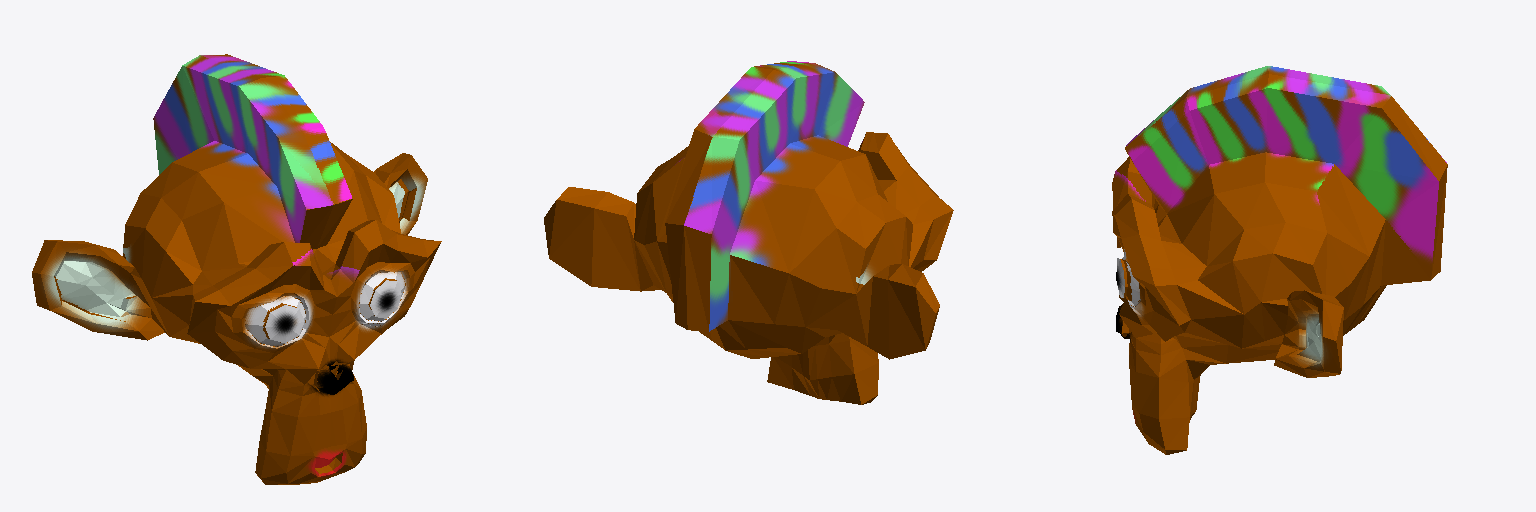
3 views of the same model, side by side, from view 1: azimuth 30°, elevation 25°; view 2: azimuth 150°, elevation 25°; view 3: azimuth 270°, elevation 25° (orthographic).
Parts seen in each view (by area): view 1: Suzanne; view 2: Suzanne; view 3: Suzanne.
Part boxes in pixels (x1,y1,x2,y2): Suzanne: (32,54,441,484); Suzanne: (544,61,953,404); Suzanne: (1112,66,1447,454).
Bounding box in the file's own units: 2.73 × 2.43 × 2.02.
Materials: 1 (1 with a texture image).